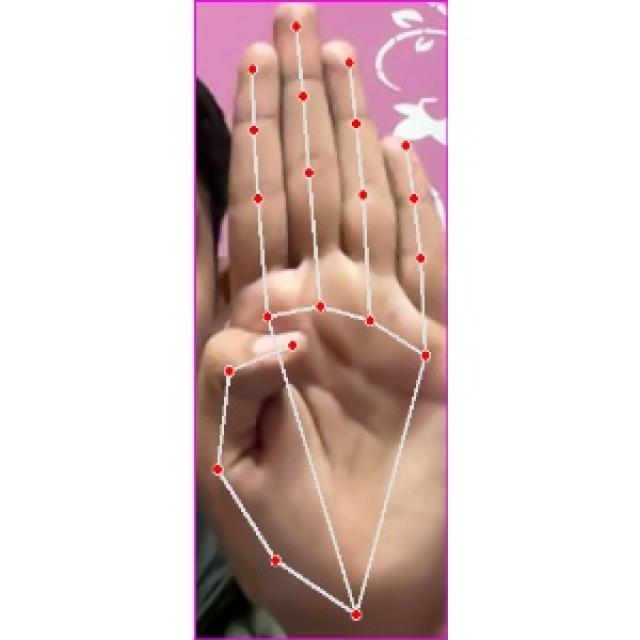B: (201, 4, 448, 632)
